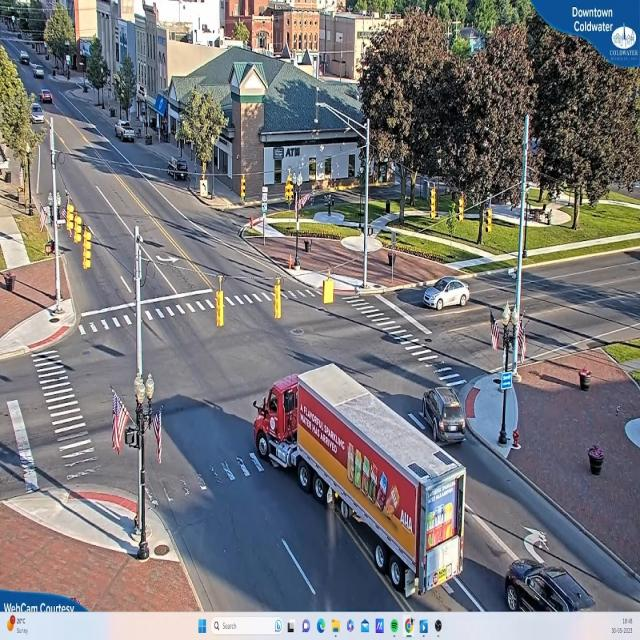car: (505, 561, 596, 612), (418, 389, 468, 446), (420, 276, 471, 309), (117, 122, 137, 144), (31, 106, 44, 124), (42, 89, 54, 103), (32, 66, 44, 78)
truck: (255, 362, 470, 606)
